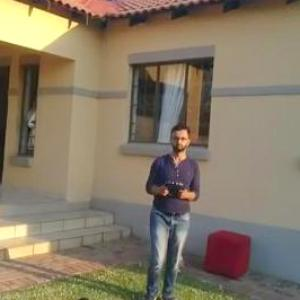follow: (136, 119, 205, 299)
